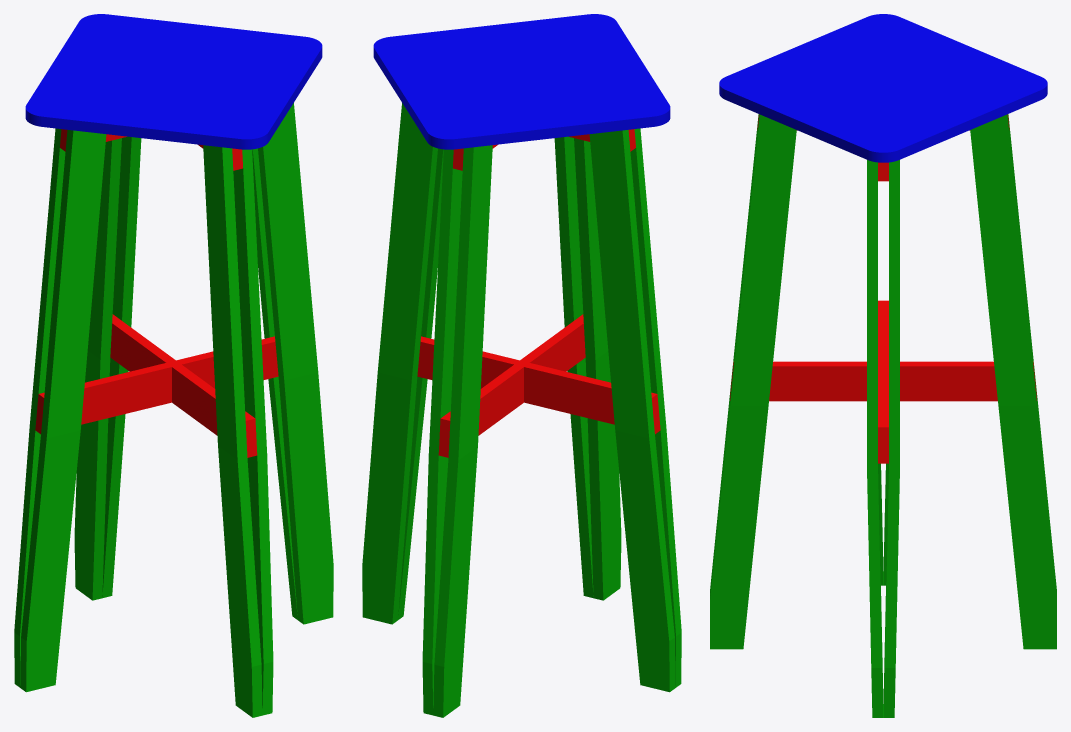
Rendered from result.glb.
3 views of the same model, side by side, from view 1: azimuth 30°, elevation 25°; view 2: azimuth 150°, elevation 25°; view 3: azimuth 270°, elevation 25° (orthographic). The views are drawn at different scales.
Parts seen in each view (by area): view 1: bfb336fe-5734-41d3-9ea9-f32161d84b89__undefined, 036e9d78-39d6-4f6a-aac4-37378935e80a__undefined, aeff63c0-1aef-4b04-8ca9-9d396592b91d__undefined, e8b5e997-3162-464a-9437-655ce10731d6__undefined, 2344c350-7feb-41aa-8638-b805afd9fbc8__undefined, 5917c560-7af0-44e3-8314-269a079231d8__Box_5, ab72c5c1-074a-4da2-a9c9-dc94e942a398__Box_6, 77109784-829d-41f8-bda2-936bb0b01d58__Box_4, 03281fbe-33fd-46db-a48a-b08621df54fd__undefined, b3911798-f16a-4469-a118-417e5b384157__undefined, f8bea51e-495e-4dbb-a891-b1f18bae51fa__undefined, 02c47541-39c4-48e1-a8ae-fff014d3df4b__Box_7 (+2 smaller); view 2: b3911798-f16a-4469-a118-417e5b384157__undefined, 0b718eae-74ad-4bb1-bc54-d97d44313351__undefined, e8b5e997-3162-464a-9437-655ce10731d6__undefined, aeff63c0-1aef-4b04-8ca9-9d396592b91d__undefined, 03281fbe-33fd-46db-a48a-b08621df54fd__undefined, ab72c5c1-074a-4da2-a9c9-dc94e942a398__Box_6, 5917c560-7af0-44e3-8314-269a079231d8__Box_5, 2344c350-7feb-41aa-8638-b805afd9fbc8__undefined, 02c47541-39c4-48e1-a8ae-fff014d3df4b__Box_7, bfb336fe-5734-41d3-9ea9-f32161d84b89__undefined, 77109784-829d-41f8-bda2-936bb0b01d58__Box_4, f8bea51e-495e-4dbb-a891-b1f18bae51fa__undefined (+2 smaller); view 3: 03281fbe-33fd-46db-a48a-b08621df54fd__undefined, 2344c350-7feb-41aa-8638-b805afd9fbc8__undefined, ab72c5c1-074a-4da2-a9c9-dc94e942a398__Box_6, 5917c560-7af0-44e3-8314-269a079231d8__Box_5, e63032b6-5a57-450e-8801-c04144d08dfa__undefined, 02c47541-39c4-48e1-a8ae-fff014d3df4b__Box_7, 036e9d78-39d6-4f6a-aac4-37378935e80a__undefined, 0b718eae-74ad-4bb1-bc54-d97d44313351__undefined, 77109784-829d-41f8-bda2-936bb0b01d58__Box_4, f8bea51e-495e-4dbb-a891-b1f18bae51fa__undefined, e8b5e997-3162-464a-9437-655ce10731d6__undefined, aeff63c0-1aef-4b04-8ca9-9d396592b91d__undefined.
Boxes of the visible parts, x1,y1,x2,y2 form: bfb336fe-5734-41d3-9ea9-f32161d84b89__undefined: (20,130,106,692); 036e9d78-39d6-4f6a-aac4-37378935e80a__undefined: (258,103,333,624); aeff63c0-1aef-4b04-8ca9-9d396592b91d__undefined: (203,145,262,717); e8b5e997-3162-464a-9437-655ce10731d6__undefined: (74,138,121,600); 2344c350-7feb-41aa-8638-b805afd9fbc8__undefined: (233,149,273,715); 5917c560-7af0-44e3-8314-269a079231d8__Box_5: (33,63,294,132); ab72c5c1-074a-4da2-a9c9-dc94e942a398__Box_6: (53,31,315,100); 77109784-829d-41f8-bda2-936bb0b01d58__Box_4: (25,95,274,149); 03281fbe-33fd-46db-a48a-b08621df54fd__undefined: (102,136,141,598); b3911798-f16a-4469-a118-417e5b384157__undefined: (14,128,65,687); f8bea51e-495e-4dbb-a891-b1f18bae51fa__undefined: (35,336,278,434); 02c47541-39c4-48e1-a8ae-fff014d3df4b__Box_7: (73,14,322,68); b3911798-f16a-4469-a118-417e5b384157__undefined: (589,130,675,692); 0b718eae-74ad-4bb1-bc54-d97d44313351__undefined: (362,103,437,624); e8b5e997-3162-464a-9437-655ce10731d6__undefined: (433,145,492,717); aeff63c0-1aef-4b04-8ca9-9d396592b91d__undefined: (574,138,621,600); 03281fbe-33fd-46db-a48a-b08621df54fd__undefined: (422,149,462,715); ab72c5c1-074a-4da2-a9c9-dc94e942a398__Box_6: (414,25,554,146); 5917c560-7af0-44e3-8314-269a079231d8__Box_5: (490,17,630,137); 2344c350-7feb-41aa-8638-b805afd9fbc8__undefined: (554,136,593,598); 02c47541-39c4-48e1-a8ae-fff014d3df4b__Box_7: (373,34,478,149); bfb336fe-5734-41d3-9ea9-f32161d84b89__undefined: (630,128,681,687); 77109784-829d-41f8-bda2-936bb0b01d58__Box_4: (566,14,670,129); f8bea51e-495e-4dbb-a891-b1f18bae51fa__undefined: (417,336,660,434); 03281fbe-33fd-46db-a48a-b08621df54fd__undefined: (970,114,1056,649); 2344c350-7feb-41aa-8638-b805afd9fbc8__undefined: (710,114,796,649); ab72c5c1-074a-4da2-a9c9-dc94e942a398__Box_6: (796,47,1023,152); 5917c560-7af0-44e3-8314-269a079231d8__Box_5: (742,24,969,129); e63032b6-5a57-450e-8801-c04144d08dfa__undefined: (730,361,1036,401); 02c47541-39c4-48e1-a8ae-fff014d3df4b__Box_7: (851,69,1047,162); 036e9d78-39d6-4f6a-aac4-37378935e80a__undefined: (867,160,883,717); 0b718eae-74ad-4bb1-bc54-d97d44313351__undefined: (883,160,899,717); 77109784-829d-41f8-bda2-936bb0b01d58__Box_4: (719,14,915,106); f8bea51e-495e-4dbb-a891-b1f18bae51fa__undefined: (878,300,888,463); e8b5e997-3162-464a-9437-655ce10731d6__undefined: (1008,114,1056,594); aeff63c0-1aef-4b04-8ca9-9d396592b91d__undefined: (710,114,758,594).
Size of the model in its own units: 406 by 725 by 406.
